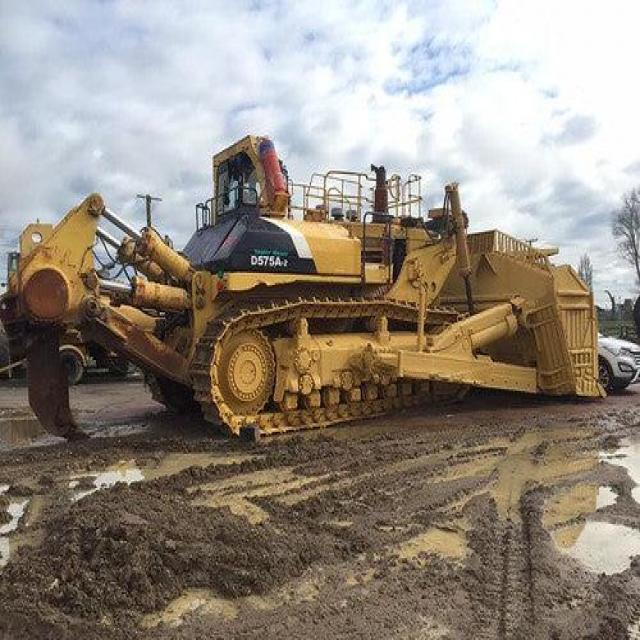Bulldozer: (17, 121, 618, 485)
